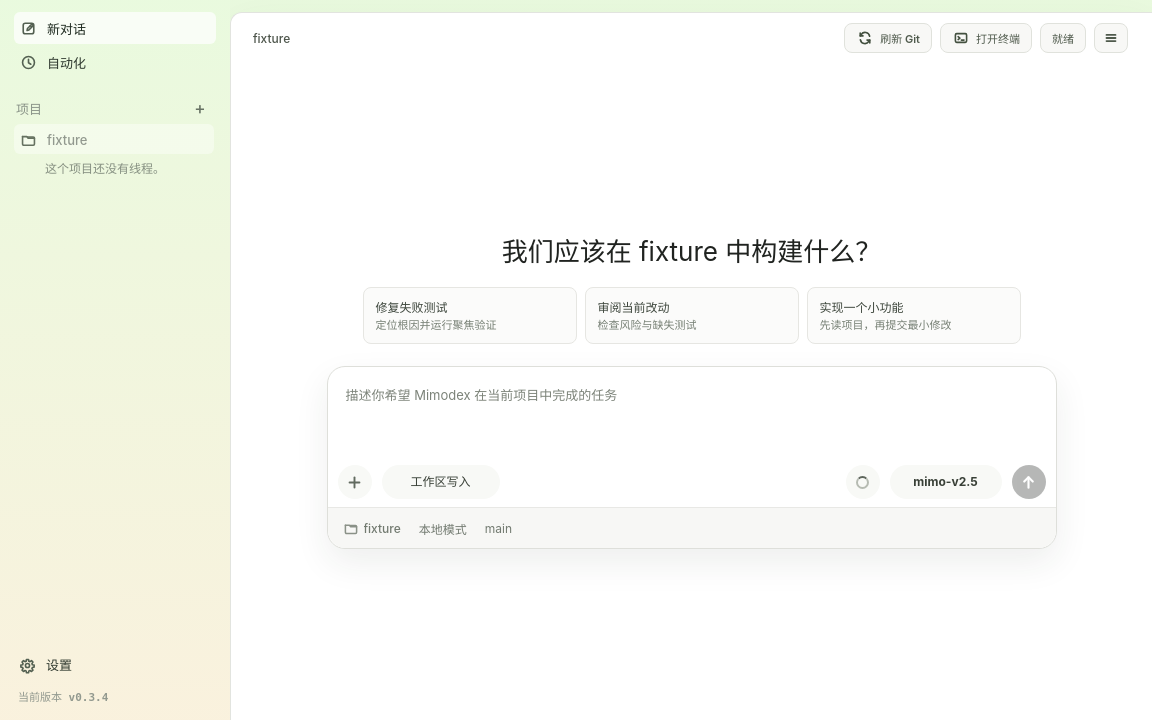
Test: Mimodex 桌面壳 › 以右侧用户气泡和左侧 AI、工具活动展示已完成轮次
Type "检查项目" into the text box named "任务内容" at (692, 413), box [328, 367, 1056, 459]
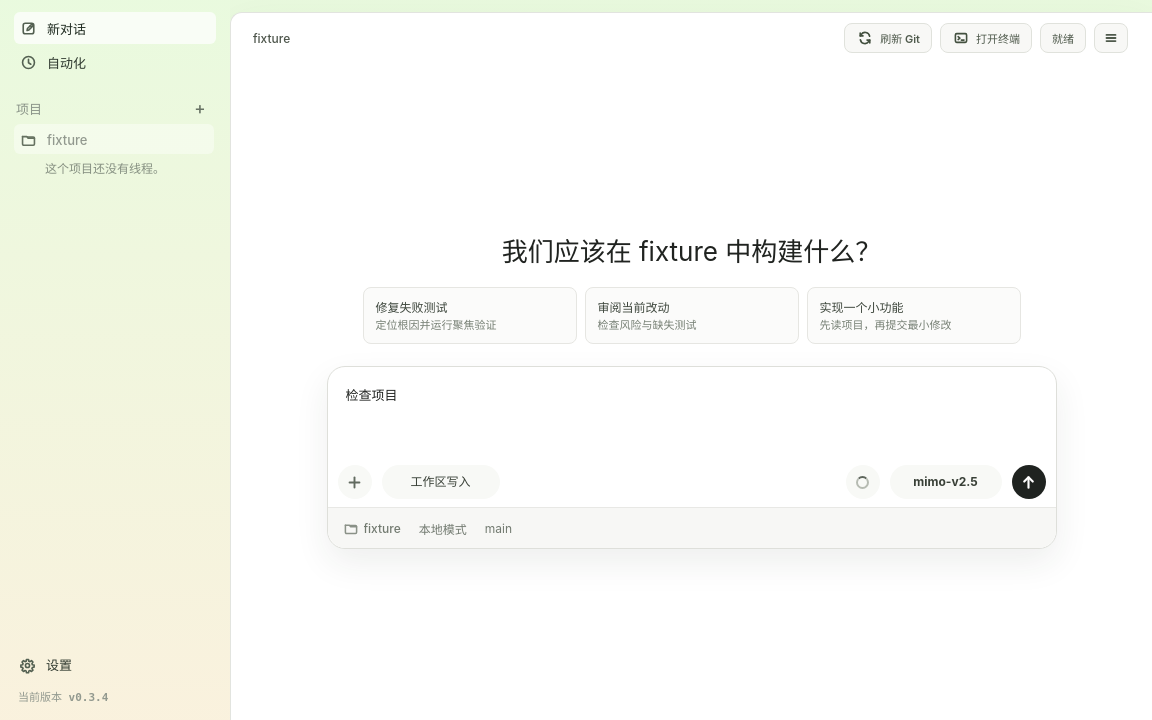
Click the button named "开始任务" at (1028, 482), box [1012, 465, 1046, 499]
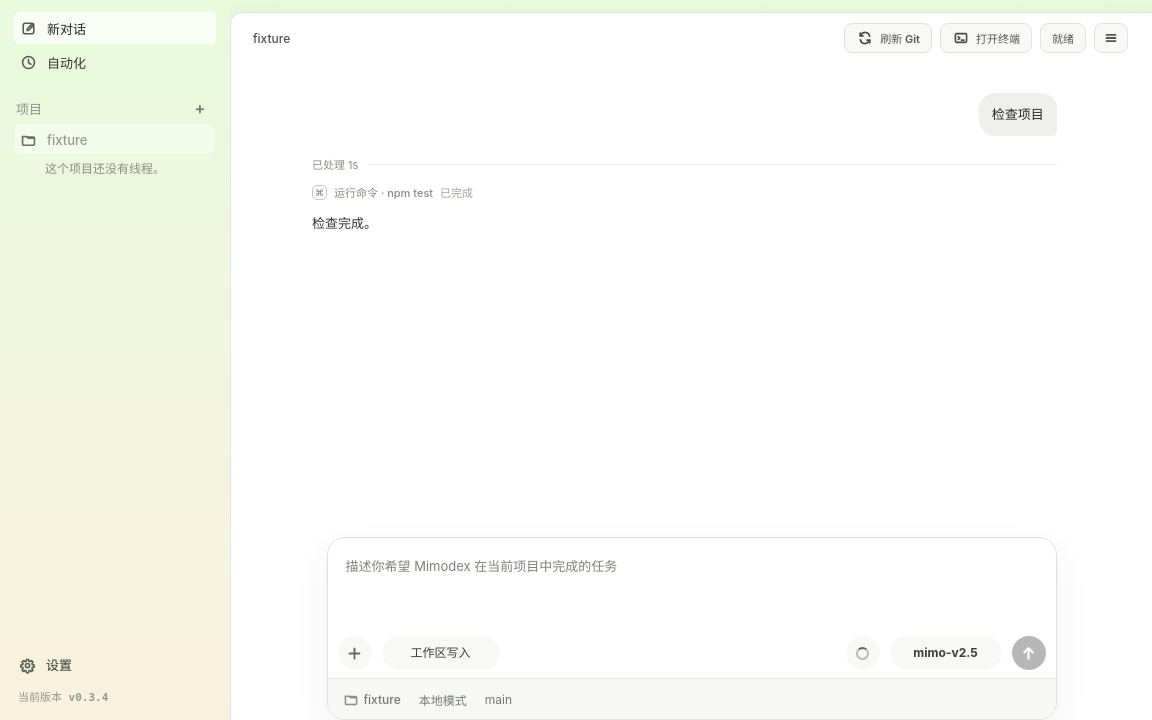
Expected: the element with class "user-message" reads "检查项目", [991, 106, 1043, 122]
Expected: the element with class "assistant-message" reads "检查完成。", [312, 215, 377, 231]
Expected: the element with class "timeline-activity" shows "运行命令 · npm test", [334, 186, 433, 200]
